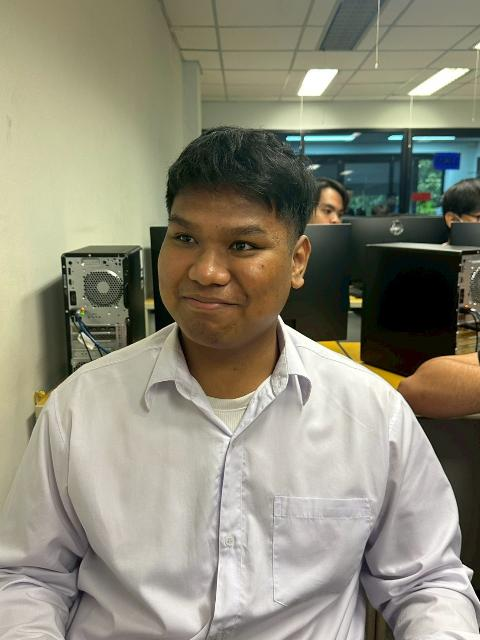fokus: (155, 133, 306, 351)
